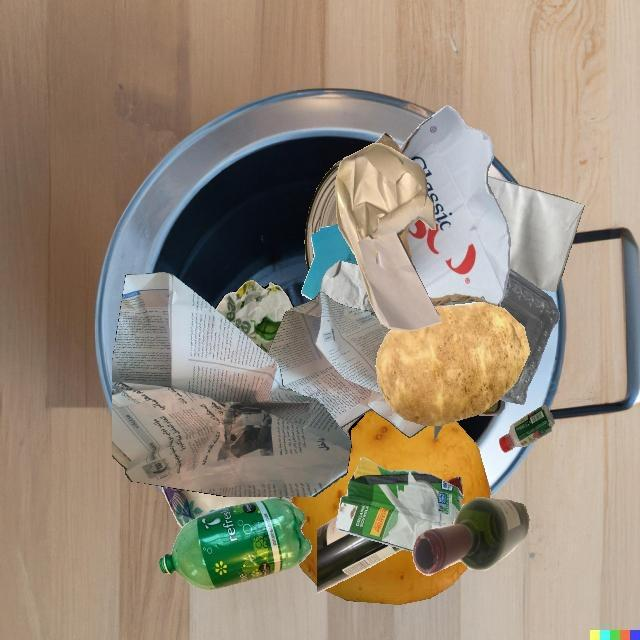biowaste: (291, 410, 490, 586), (376, 302, 530, 426), (325, 549, 468, 605)
cardboard: (374, 105, 510, 307), (337, 458, 463, 552), (162, 486, 292, 529)
glass: (412, 497, 529, 575), (317, 516, 403, 593), (304, 155, 350, 271)
paper: (112, 272, 352, 497), (267, 292, 426, 437), (335, 143, 441, 331), (488, 176, 584, 292), (215, 280, 294, 354), (301, 224, 358, 300), (320, 260, 375, 313), (478, 399, 505, 415), (434, 425, 443, 441)
plastic: (159, 498, 312, 590), (500, 268, 560, 404), (499, 405, 555, 453)
